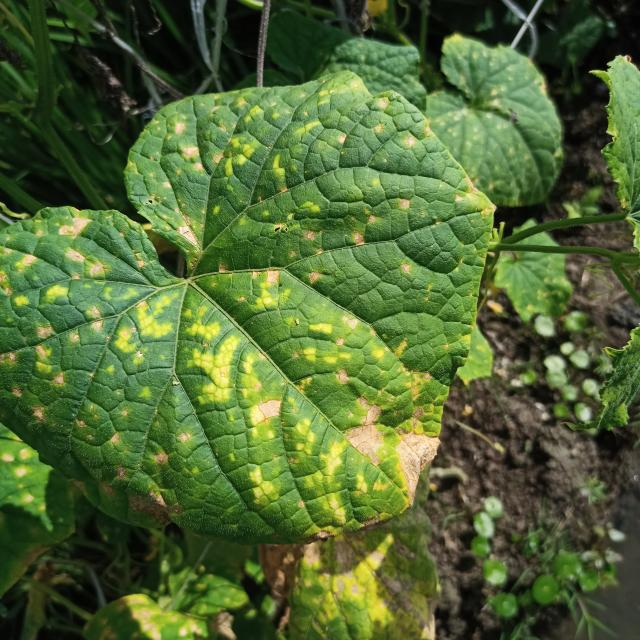disease_cucumber: (0, 81, 466, 531)
